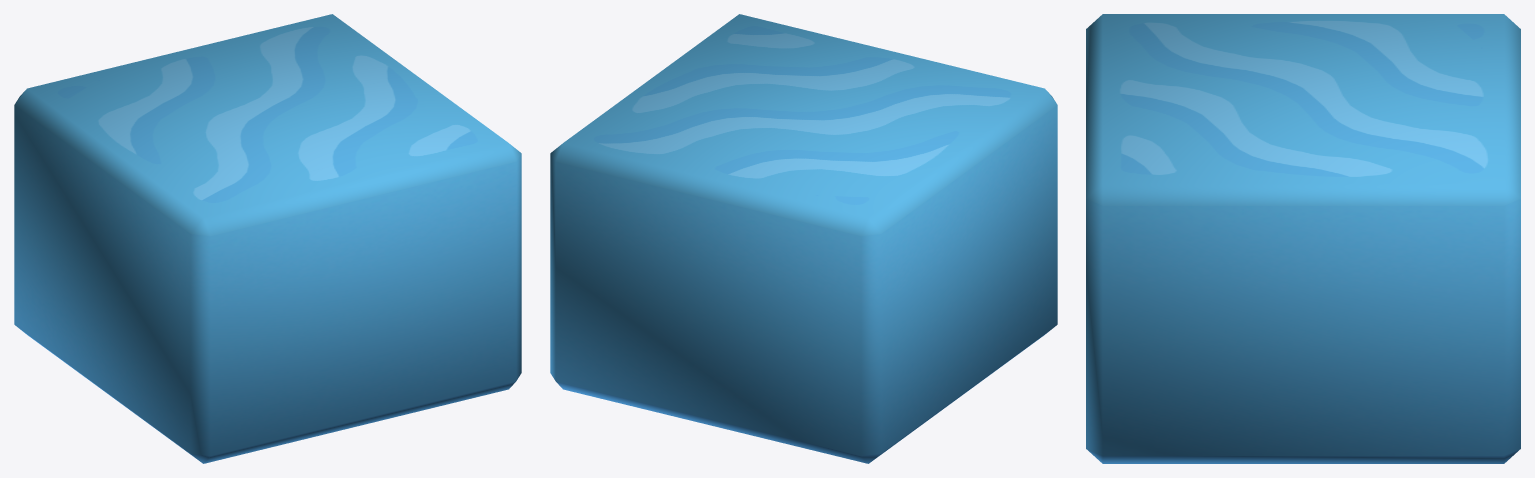
File: water_top_3x3_deep.fbx
3 views of the same model, side by side, from view 1: azimuth 30°, elevation 25°; view 2: azimuth 150°, elevation 25°; view 3: azimuth 270°, elevation 25° (orthographic). The views are drawn at different scales.
Visible parts, largest first — view 1: water_top_3x3_deep; view 2: water_top_3x3_deep; view 3: water_top_3x3_deep.
Part boxes in pixels (left/top/right/bottom): water_top_3x3_deep: left=14, top=14, right=521, bottom=463; water_top_3x3_deep: left=550, top=14, right=1057, bottom=463; water_top_3x3_deep: left=1086, top=14, right=1520, bottom=463.
Size of the model in its own units: 325 by 231 by 325.
